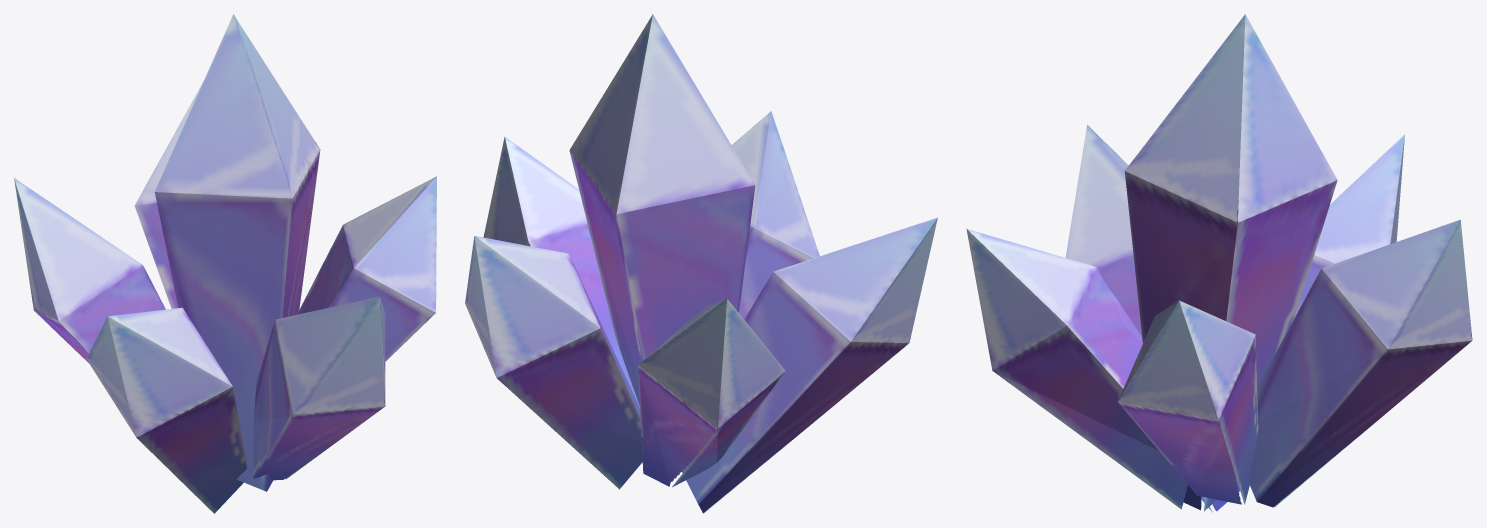
File: crystal.dae
3 renders of one model, left to right at view 1: azimuth 30°, elevation 25°; view 2: azimuth 150°, elevation 25°; view 3: azimuth 270°, elevation 25°, orthographic. The views are drawn at different scales.
Parts seen in each view (by area): view 1: crystal.000; view 2: crystal.000; view 3: crystal.000.
Boxes of the visible parts, x1=… form: crystal.000: x1=14, y1=14, x2=436, y2=513; crystal.000: x1=465, y1=14, x2=937, y2=513; crystal.000: x1=966, y1=14, x2=1472, y2=512.
Size of the model in its own units: 2.51 by 2.7 by 3.05.
1 material, 1 textured.
